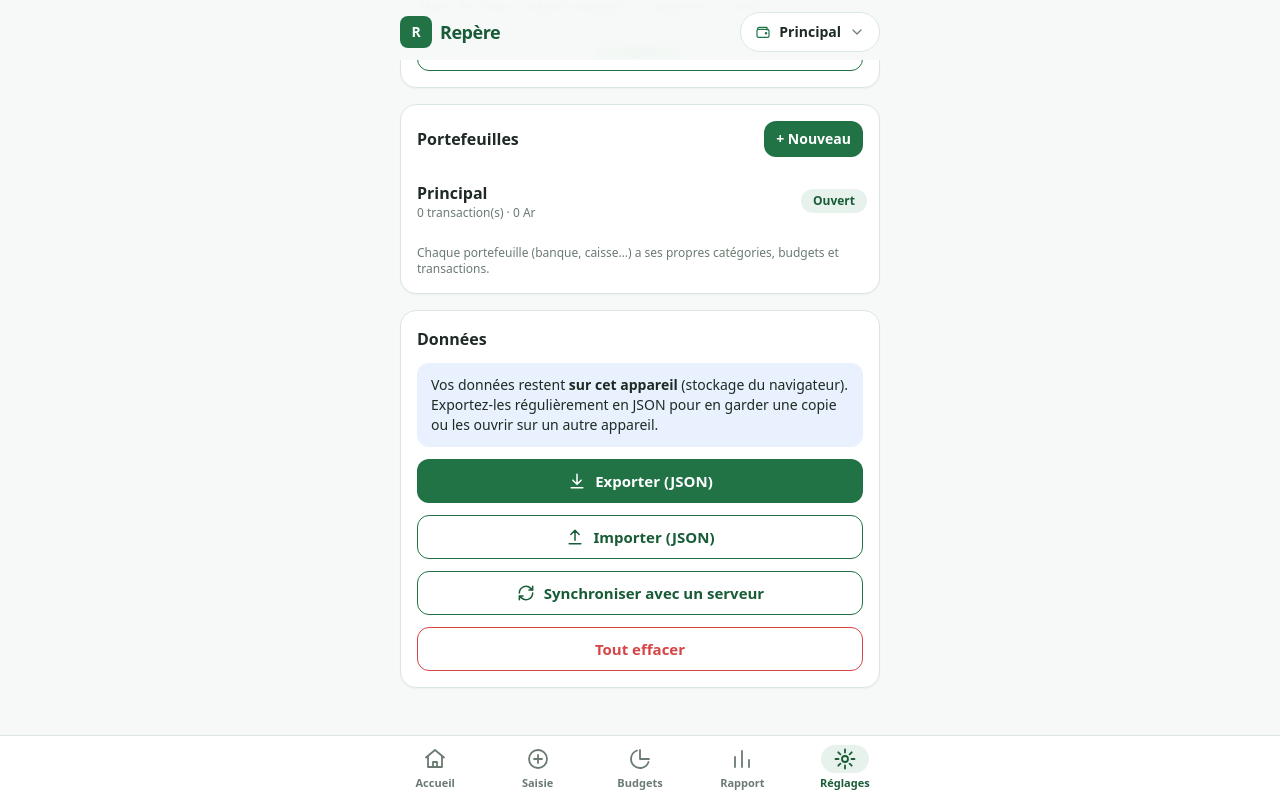
Scenario: écran de synchronisation › s'ouvre depuis les Réglages, sans ajouter d'onglet à la barre du bas
The image size is (1280, 800).
(page scrolled)
Click the button "Synchroniser avec un serveur": (640, 593) x1=417 y1=571 x2=863 y2=615
(page scrolled)
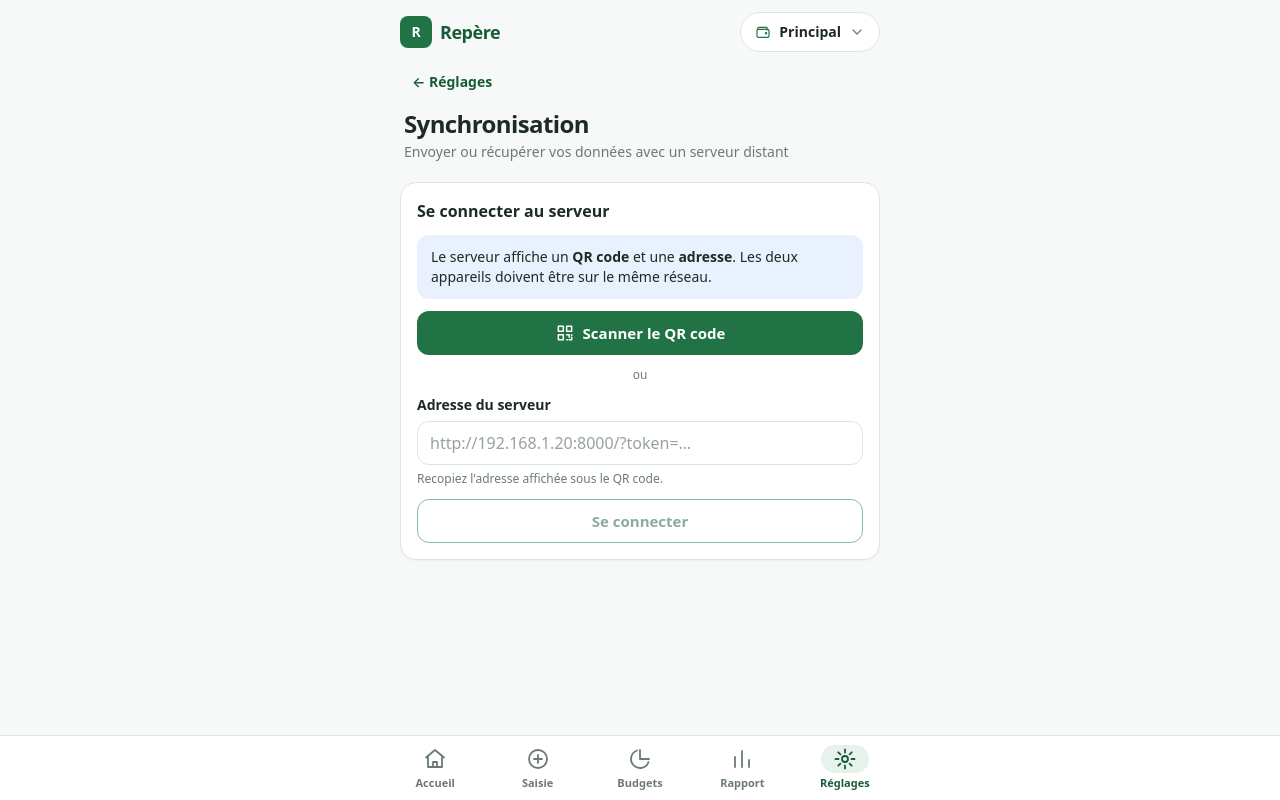
Expected: the heading "Synchronisation" is shown, x1=404 y1=107 x2=589 y2=140
Click the button "← Réglages": (452, 82) x1=400 y1=64 x2=504 y2=100
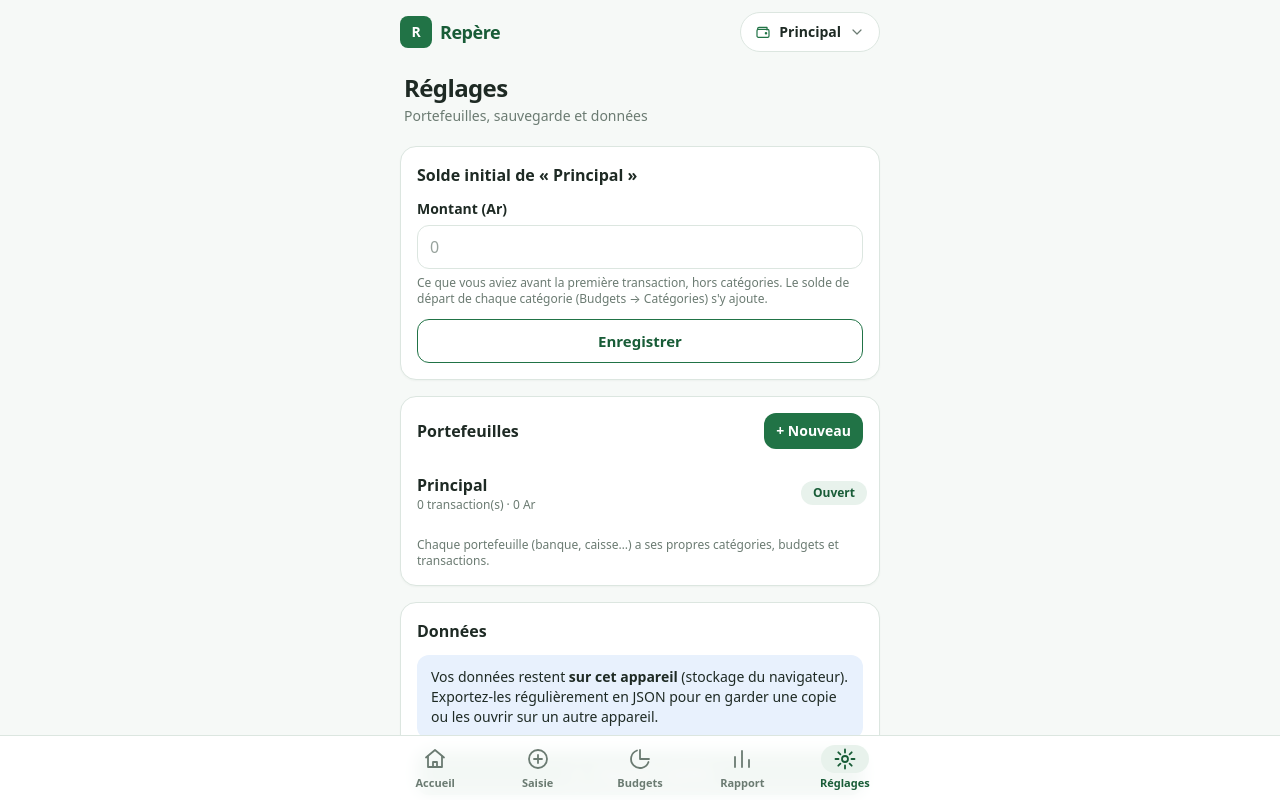
Expected: the heading "Réglages" is shown, x1=404 y1=71 x2=508 y2=104
